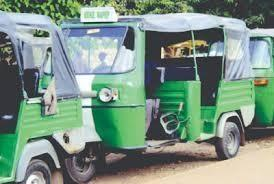keke: (56, 8, 258, 184), (0, 8, 91, 184), (245, 11, 274, 146)
